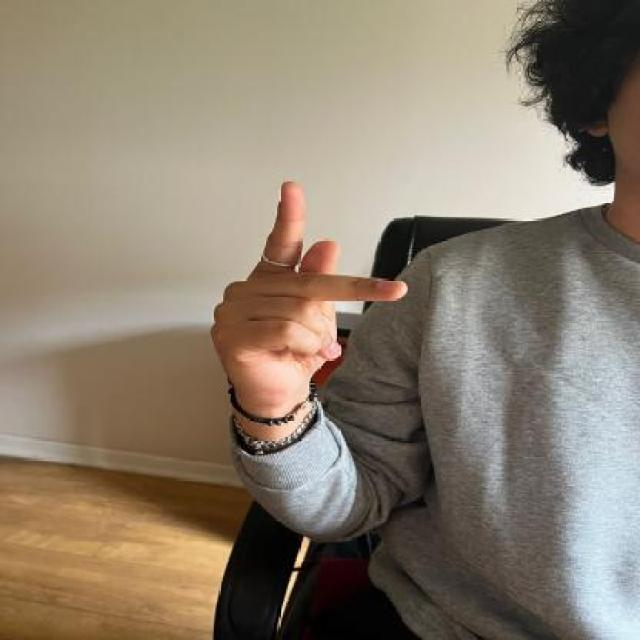K: (209, 172, 414, 403)
